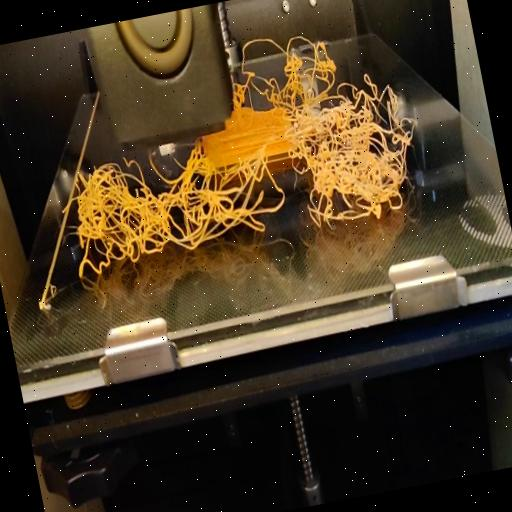spaghetti: (51, 97, 434, 291), (220, 9, 401, 131)
